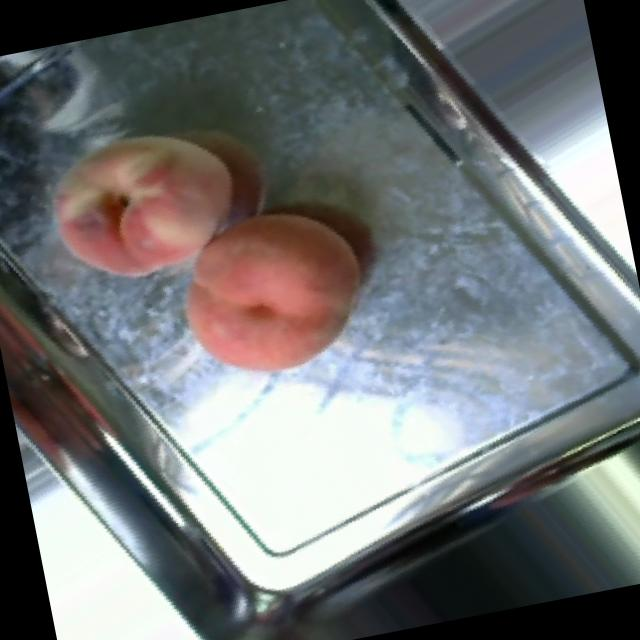Fruit: (138, 163, 406, 417), (10, 85, 276, 318)
